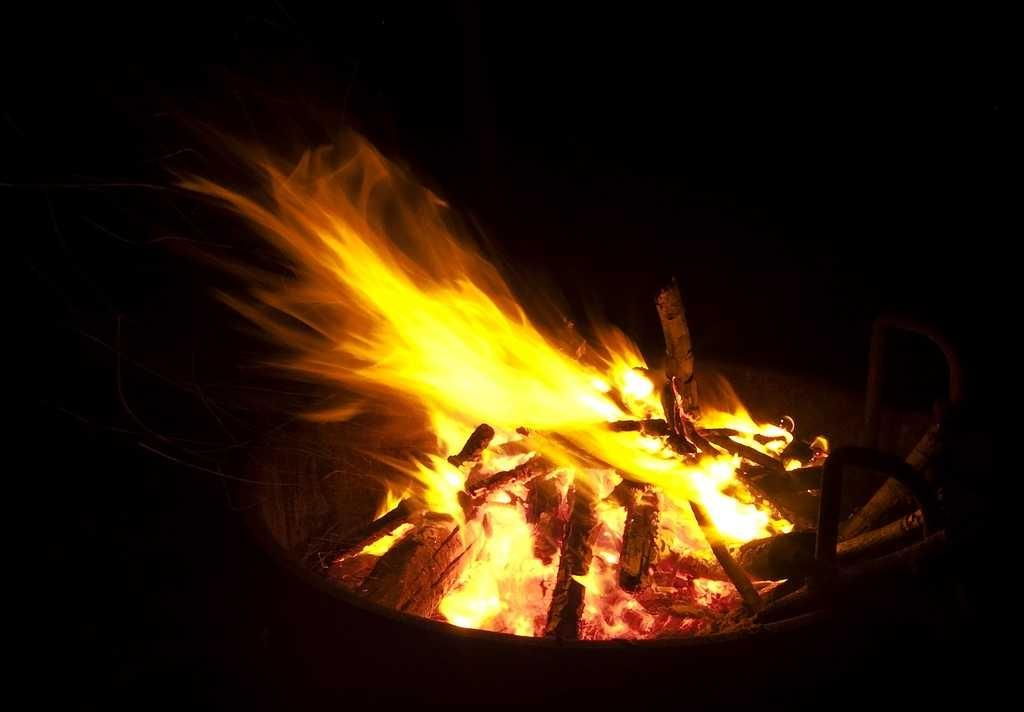fire: (406, 316, 586, 418), (470, 518, 536, 630), (666, 460, 742, 544)
